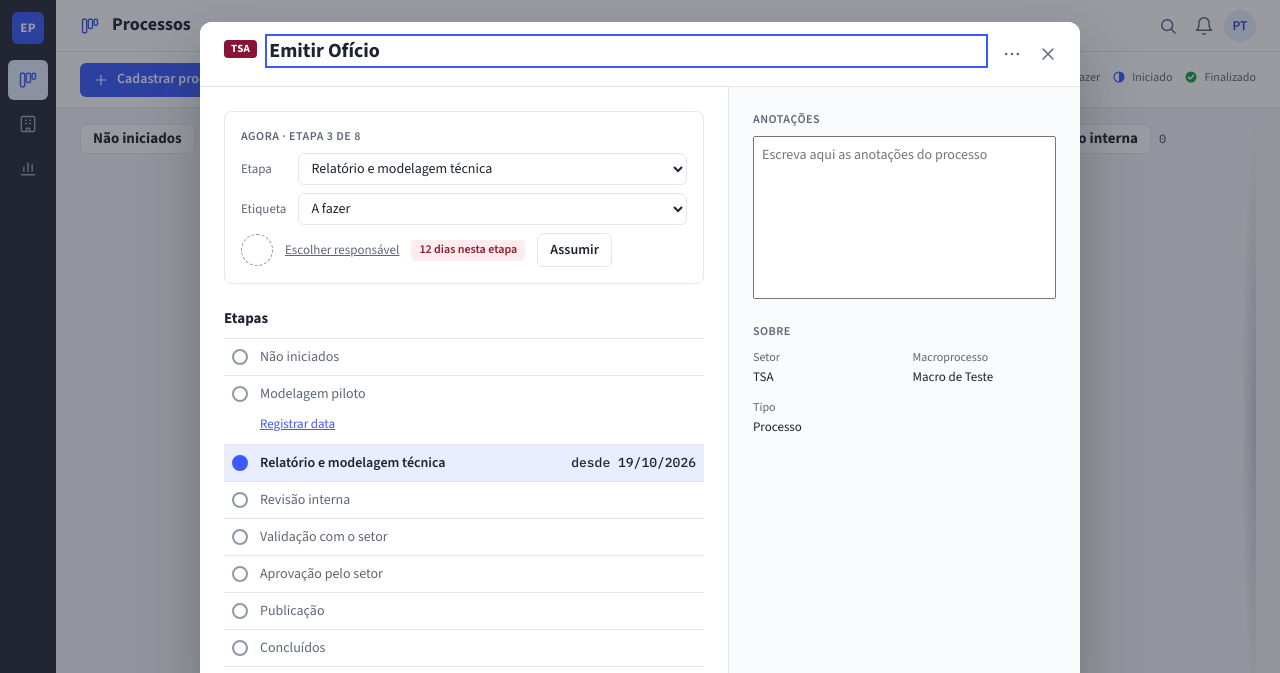
Test case: cancelar tira o cartão do Quadro e mostra o aviso de cancelado
The width and height of the screenshot is (1280, 673).
Expected: the link "TSA Emitir Ofício Sem responsável 12 dias nesta etapa" is shown, [712, 166, 1004, 302]
Click the button named "Ações do processo".
click(1012, 54)  # box [996, 38, 1028, 70]
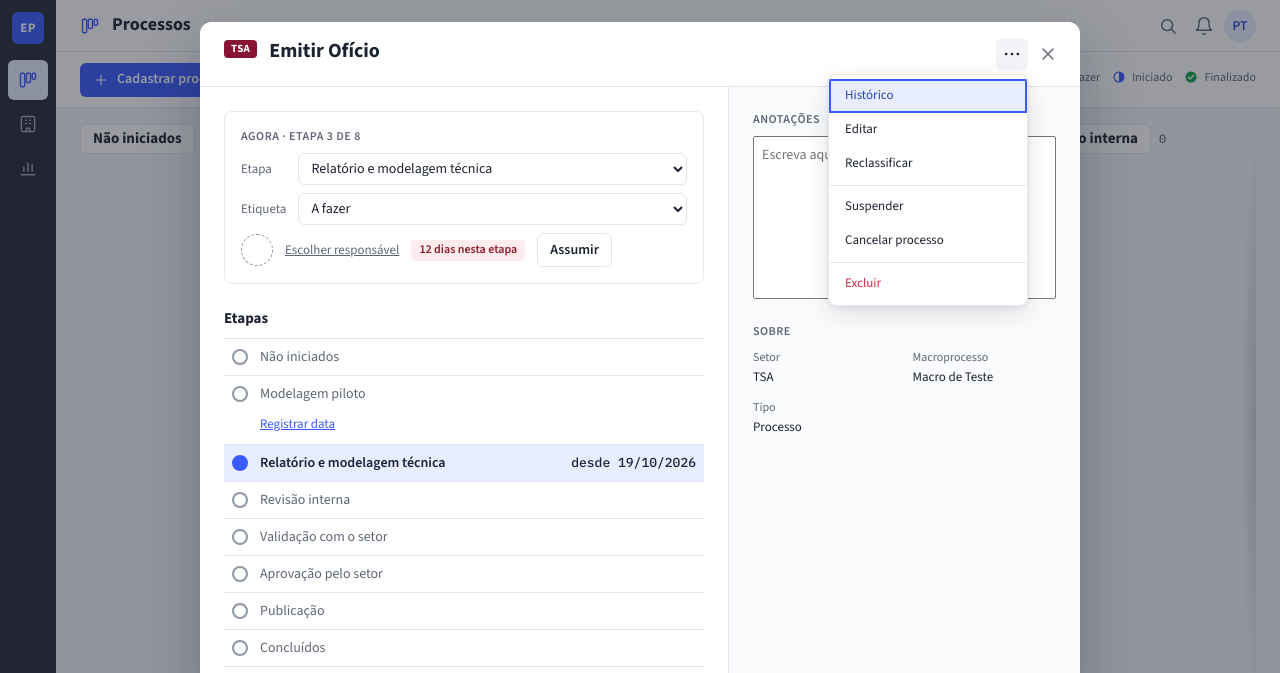
Click the menu item "Cancelar processo".
click(928, 241)  # box [829, 224, 1027, 258]
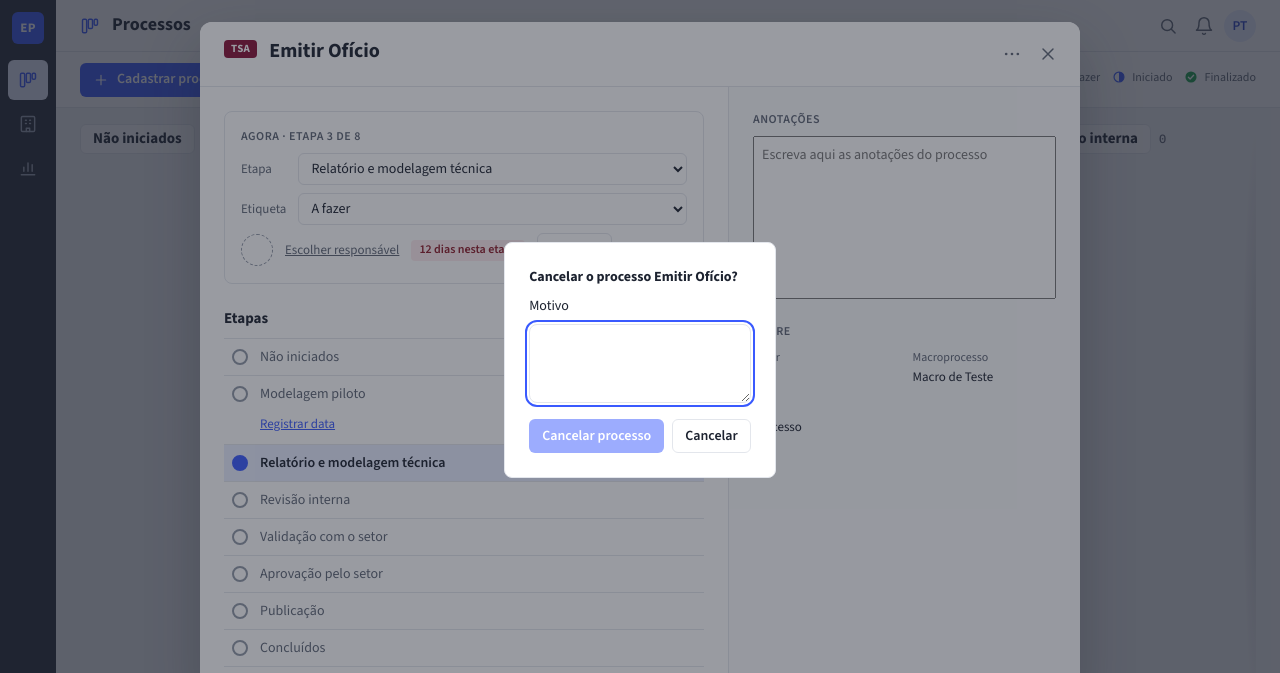
Type "Não será mapeado" into the text box labelled "Motivo".
click(640, 363); type("Não será mapeado")  # box [529, 324, 751, 403]
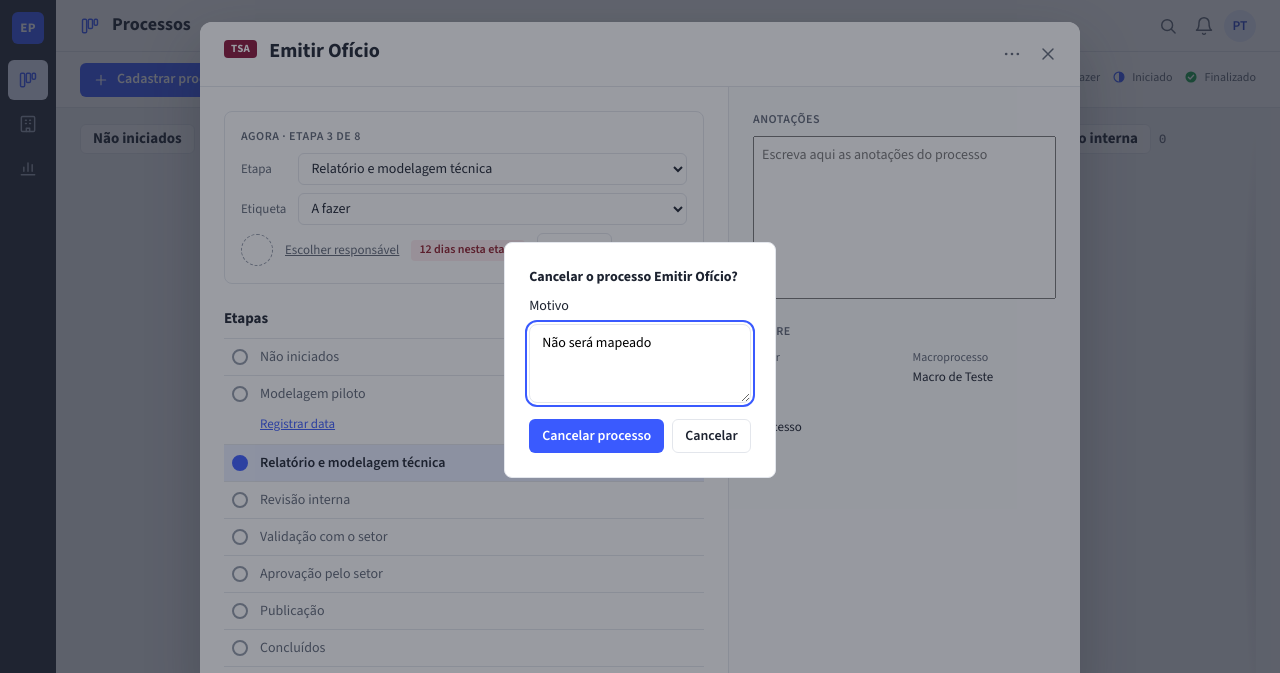
Click the button "Cancelar processo".
click(597, 436)  # box [529, 419, 664, 453]
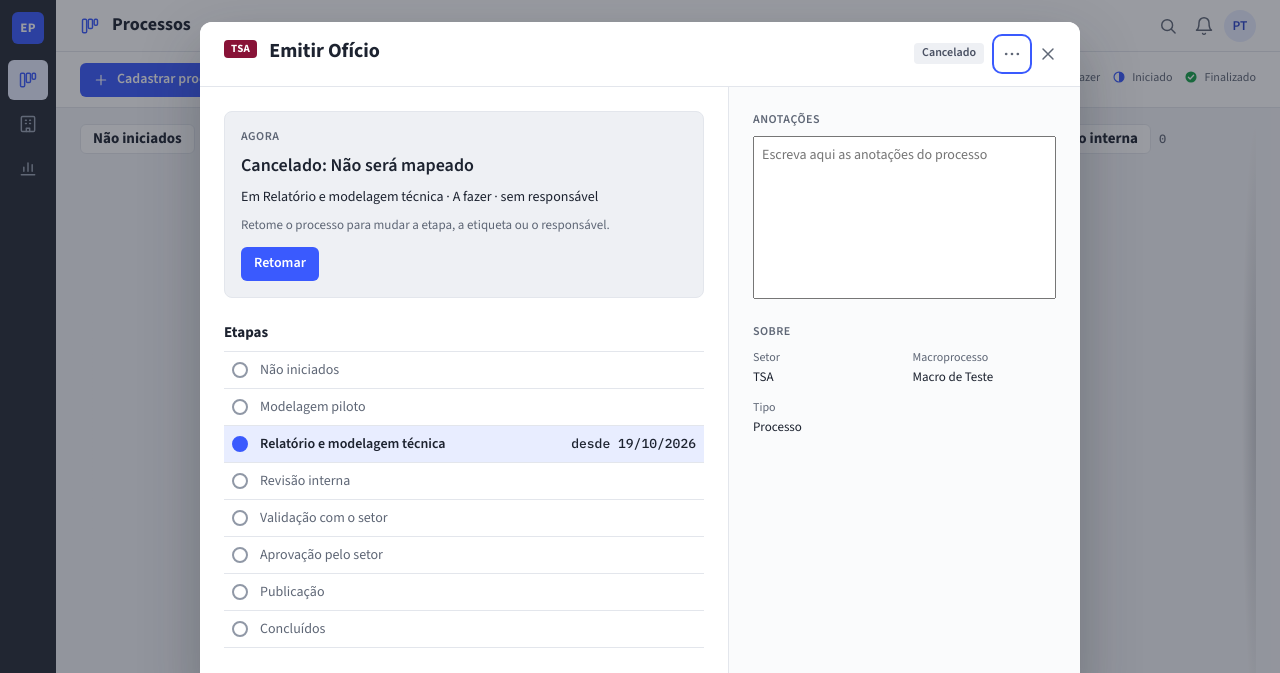
Expected: the text "Cancelado: Não será mapeado" is shown, [241, 153, 474, 178]
